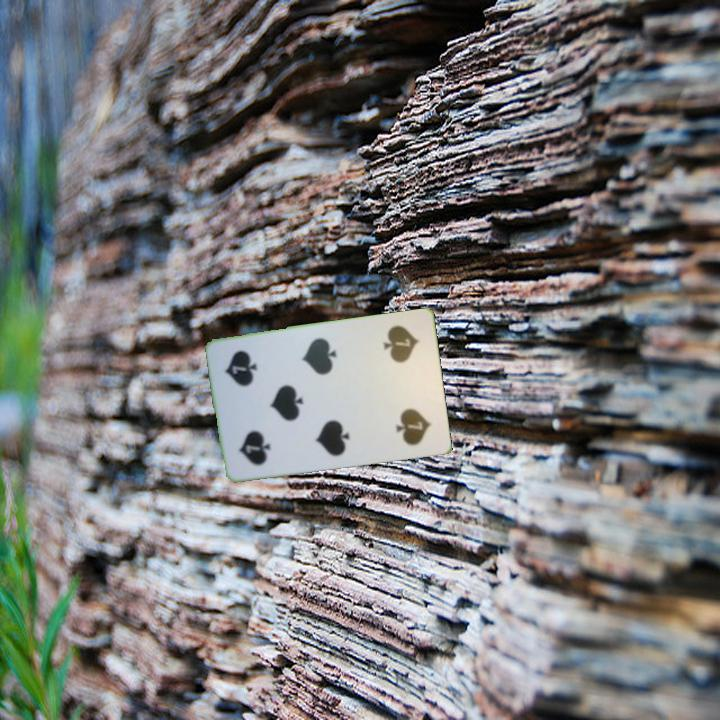s_7.png: (223, 399, 289, 473), (367, 318, 432, 392)
